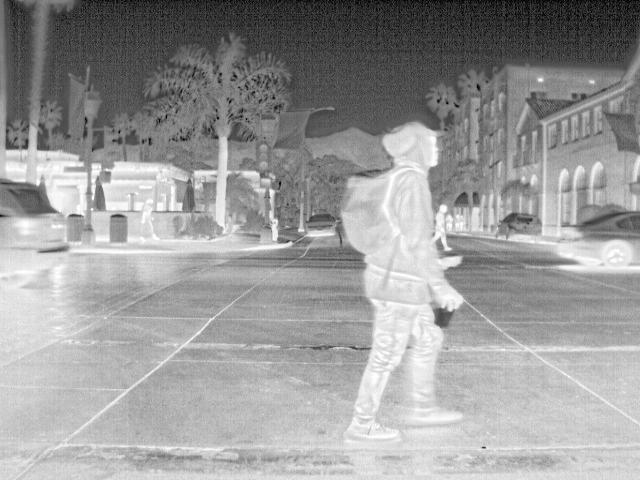car: (2, 179, 69, 294), (554, 208, 640, 272), (494, 212, 544, 242), (304, 212, 338, 238)
person: (342, 122, 466, 440), (432, 203, 454, 254), (137, 198, 161, 244)
